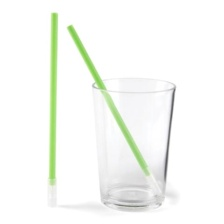drinking_straw: (65, 19, 166, 198), (42, 8, 64, 210)
glass: (87, 73, 181, 215)
